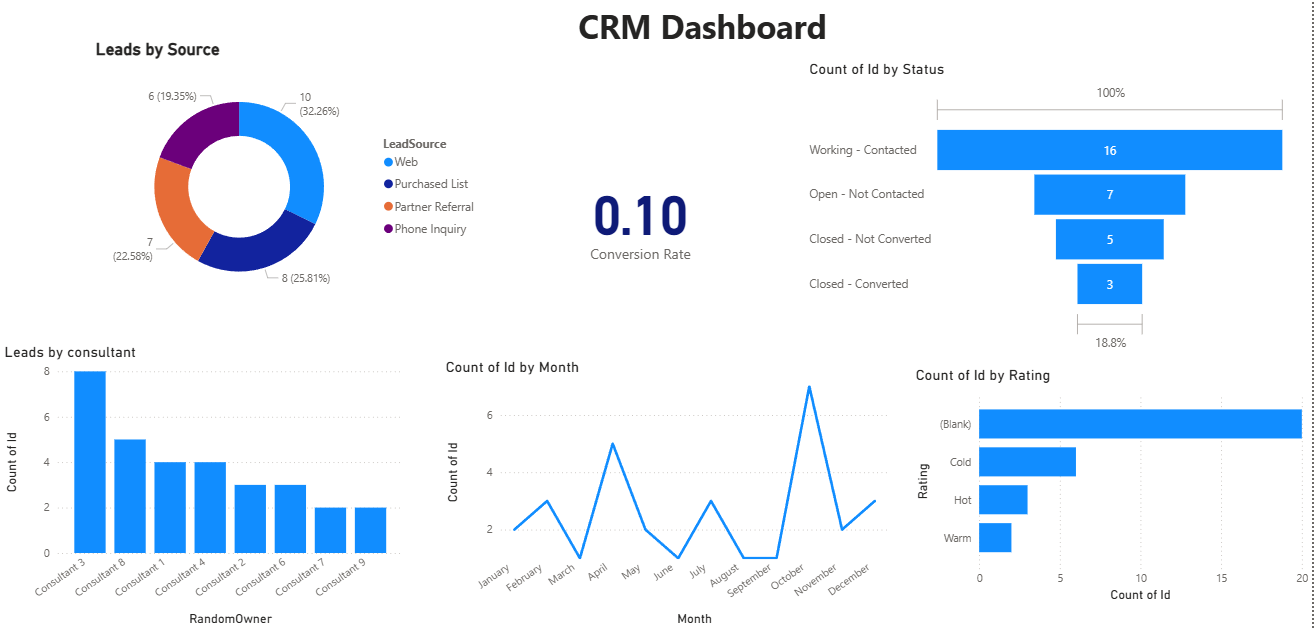

Layout of this report page (visuals, bound fields, positions):
{"tool":"powerbi","page":{"name":"pipline","canvas":[1280,720],"ordinal":2},"visuals":[{"type":"funnel","fields":{"Category":["Lead.Status"],"Y":["CountNonNull(Lead.Id)"]},"box":[724.4,52.3,555.8,339.5],"z":0},{"type":"card","fields":{"Values":["Lead.Conversion Rate"]},"box":[540.7,132.6,173.3,180.2],"z":1000},{"type":"donutChart","title":"Leads by Source","fields":{"Category":["Lead.LeadSource"],"Y":["CountNonNull(Lead.Id)"]},"box":[105.8,52.3,451.2,315.1],"z":2000},{"type":"clusteredBarChart","fields":{"Y":["CountNonNull(Lead.Id)"],"Category":["Lead.Rating"]},"box":[821.7,445,458.3,275],"z":3000},{"type":"clusteredColumnChart","title":"Leads by consultant","fields":{"Y":["CountNonNull(Lead.Id)"],"Category":["Lead.RandomOwner"]},"box":[0,391.7,465,328.3],"z":4000},{"type":"lineChart","fields":{"Y":["CountNonNull(Lead.Id)"],"Category":["Lead.RandomCreatedDate.Variation.Date Hierarchy.Month"]},"box":[445,391.7,376.7,291.7],"z":5000},{"type":"textbox","box":[208.1,0,893,248.8],"z":6000}]}

Visuals, with their boxes on the page's 1280x720 design canvas (x1, y1, x2, y2). These are canvas units, not pixel positions in the 1316x628 screenshot, which may show the page scaled, cropped or inside an application window:
funnel - Lead.Status x CountNonNull(Lead.Id): Rect(724, 52, 1280, 392)
card - Lead.Conversion Rate: Rect(541, 133, 714, 313)
"Leads by Source" donutChart: Rect(106, 52, 557, 367)
clusteredBarChart - CountNonNull(Lead.Id) x Lead.Rating: Rect(822, 445, 1280, 720)
"Leads by consultant" clusteredColumnChart: Rect(0, 392, 465, 720)
lineChart - CountNonNull(Lead.Id) x Lead.RandomCreatedDate.Variation.Date Hierarchy.Month: Rect(445, 392, 822, 683)
textbox: Rect(208, 0, 1101, 249)
